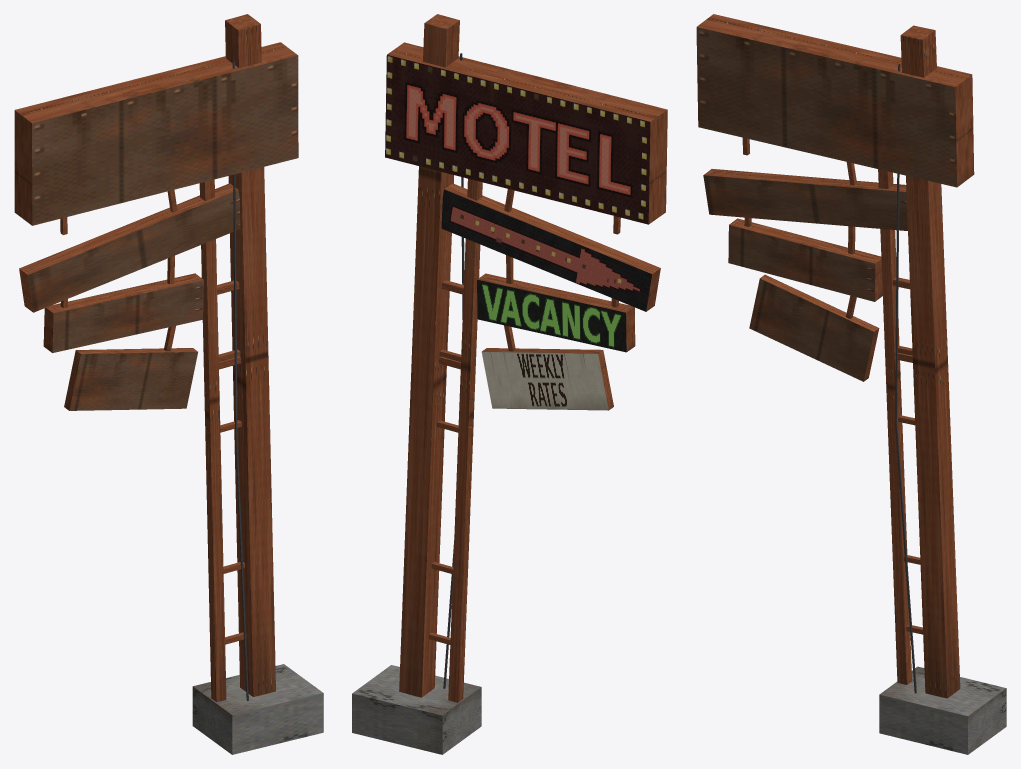
File: MotelSign.fbx
3 views of the same model, side by side, from view 1: azimuth 30°, elevation 25°; view 2: azimuth 150°, elevation 25°; view 3: azimuth 330°, elevation 25° (orthographic). The views are drawn at different scales.
Parts seen in each view (by area): view 1: MotelSign; view 2: MotelSign, MotelSign_GlowMotel, MotelSign_GlowArrow, MotelSign_GlowVacancy; view 3: MotelSign.
Boxes of the visible parts, <box> form: MotelSign: <box>14,14,323,754</box>; MotelSign: <box>352,14,667,754</box>; MotelSign_GlowMotel: <box>385,55,650,224</box>; MotelSign_GlowArrow: <box>441,189,651,311</box>; MotelSign_GlowVacancy: <box>477,279,626,352</box>; MotelSign: <box>696,14,1006,754</box>.
Bounding box in the file's own units: 3.75 × 9 × 0.9.
